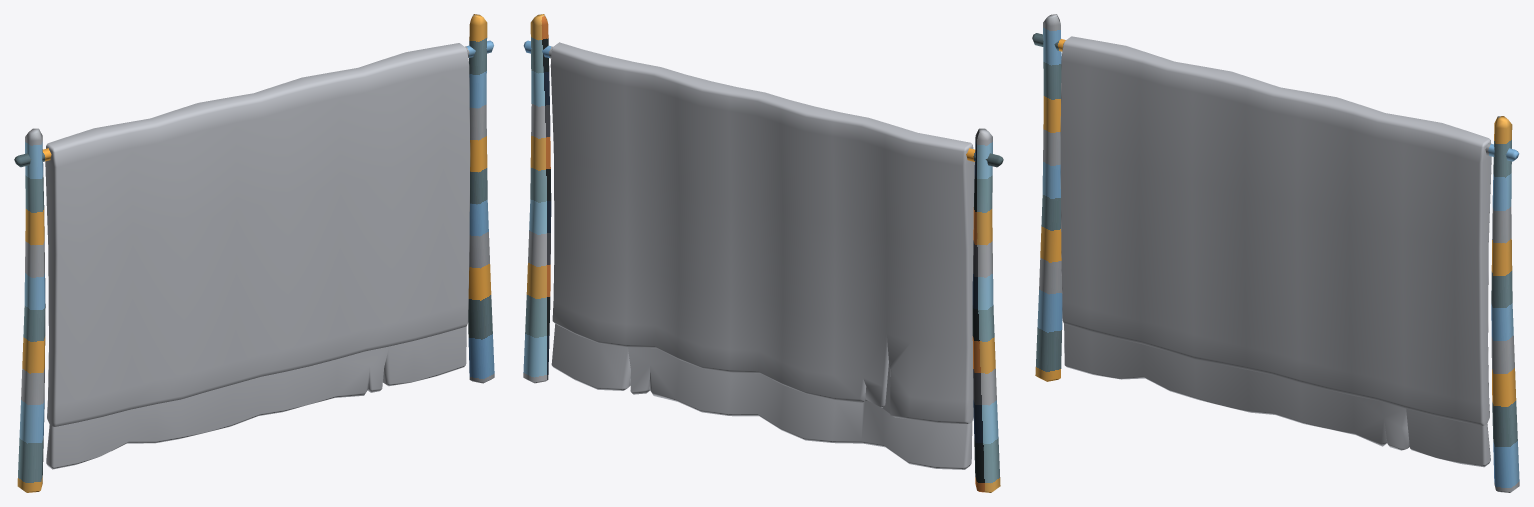
The model's file is P_AP23ClothDivider.glb.
The picture shows the model from 3 angles, left to right: view 1: azimuth 30°, elevation 25°; view 2: azimuth 150°, elevation 25°; view 3: azimuth 330°, elevation 25°; orthographic projection.
Visible parts, largest first — view 1: P_AP23ClothDivider; view 2: P_AP23ClothDivider; view 3: P_AP23ClothDivider.
Boxes of the visible parts, box(x1,y1,x2,y2) form: P_AP23ClothDivider: box(14, 14, 494, 492); P_AP23ClothDivider: box(523, 14, 1003, 492); P_AP23ClothDivider: box(1032, 14, 1519, 492).
Bounding box in the file's own units: 2.1 × 1.53 × 0.135.
Materials: 1 (1 with a texture image).
